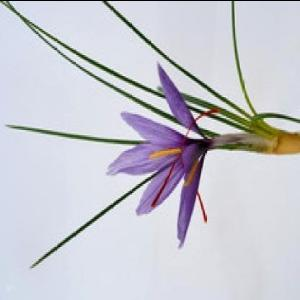Saffron: (105, 59, 212, 248)
